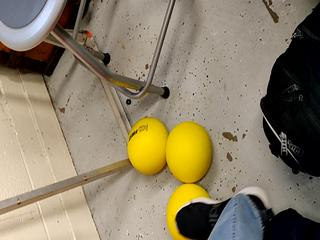power_cell: (121, 112, 171, 176), (159, 118, 209, 182), (163, 176, 213, 240)
